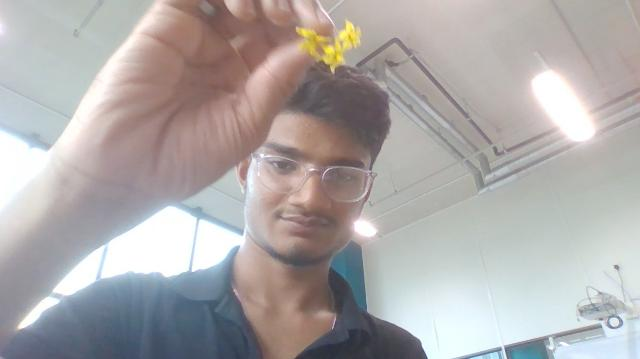Anthesis: (295, 25, 331, 60), (338, 19, 362, 50), (322, 42, 346, 73)
